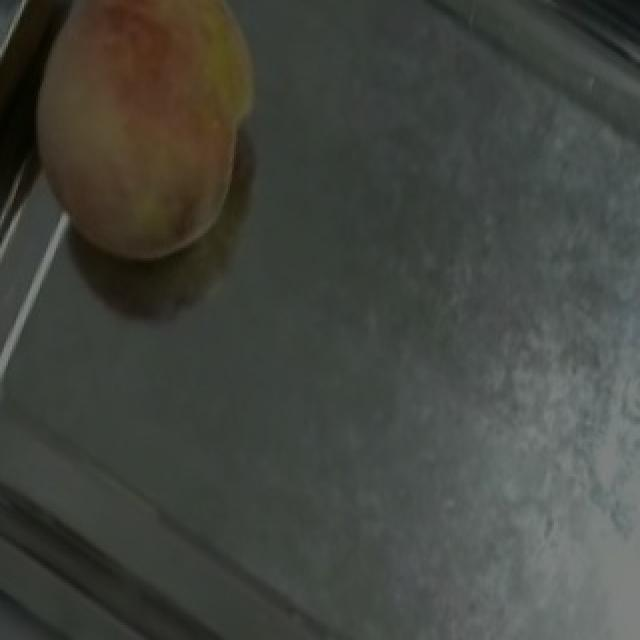Fruit: (0, 0, 304, 305)
